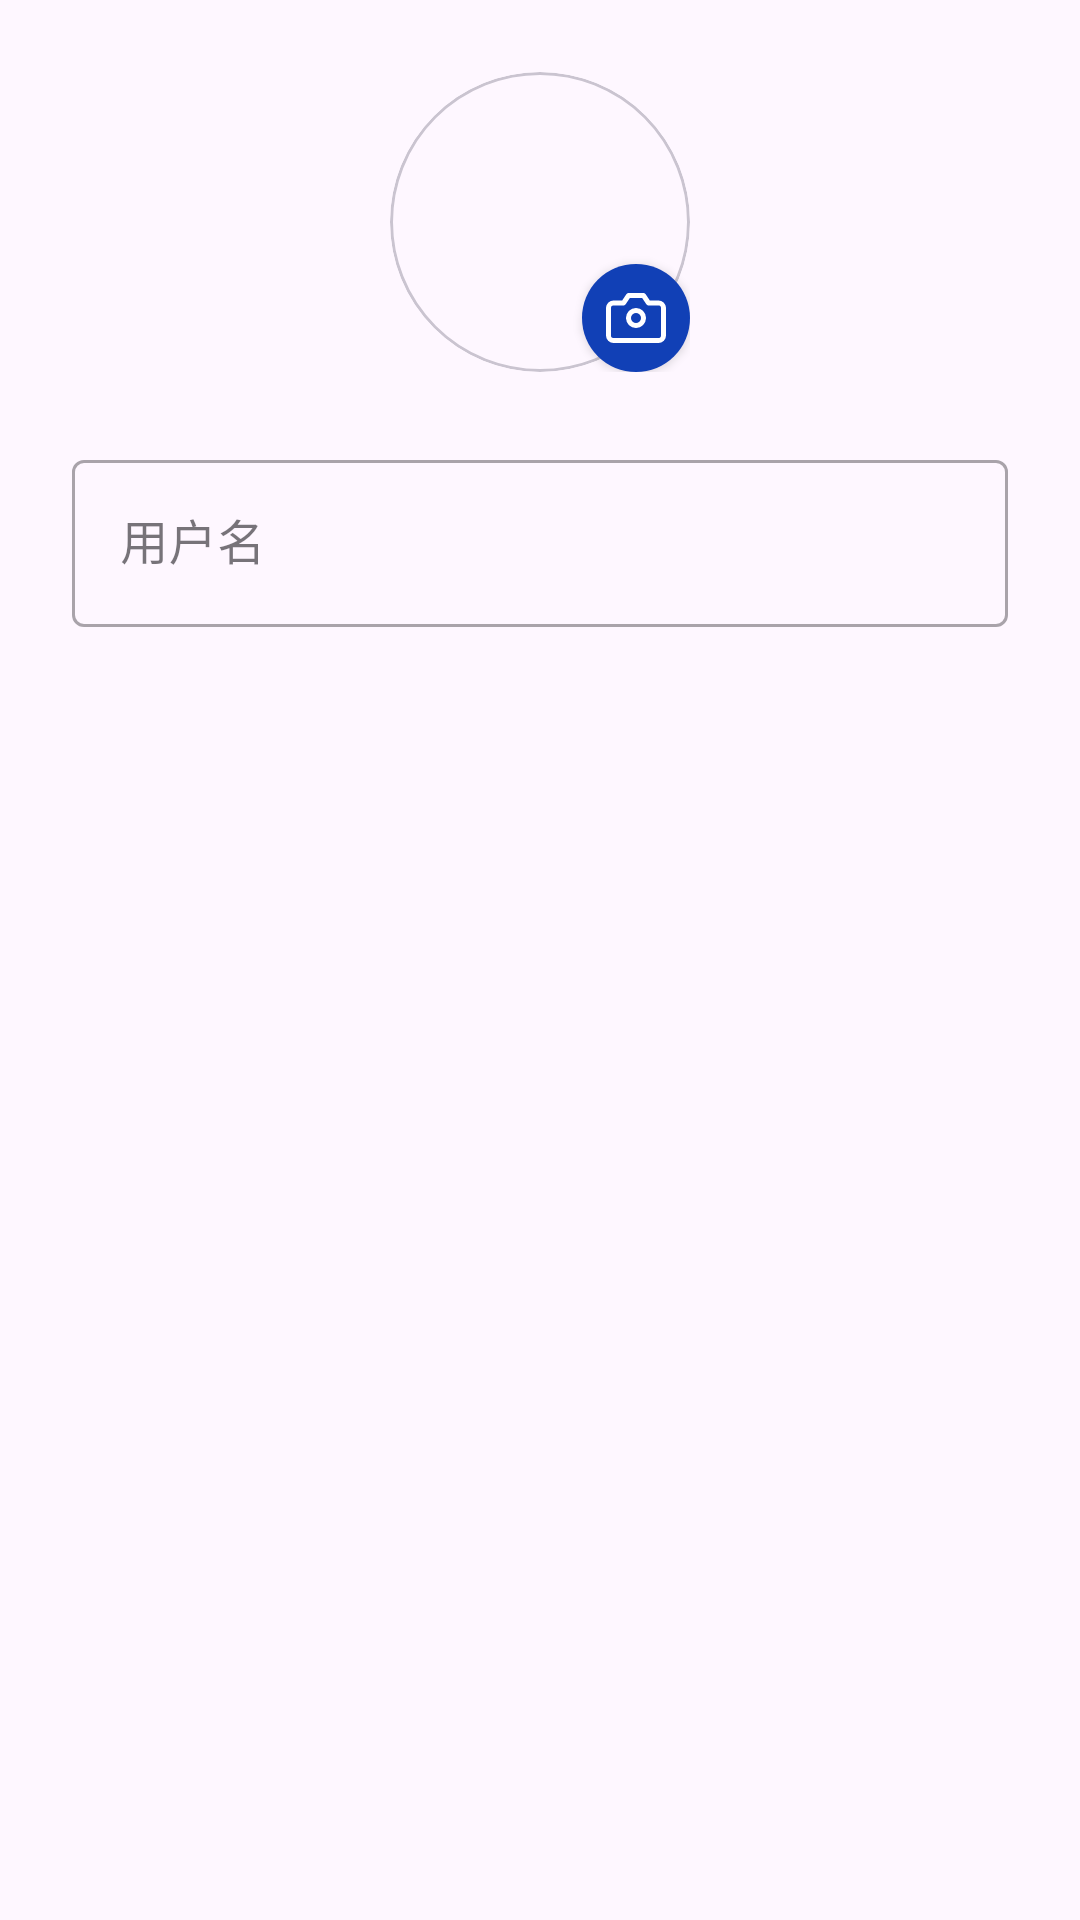

Where to tap for icons on this 1080x1920 app screen, as [x,y]:
camera: [636,318]
